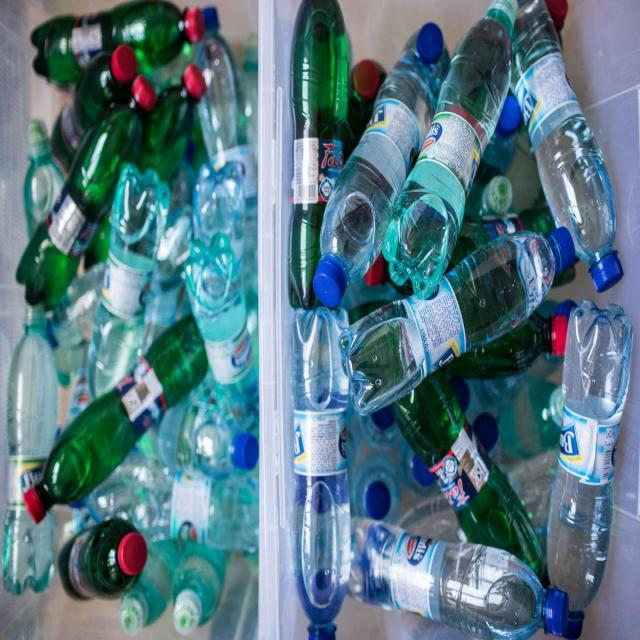plastic_bottle: (282, 1, 637, 640), (3, 3, 260, 640), (546, 297, 639, 640), (285, 3, 355, 312), (19, 2, 221, 88)
